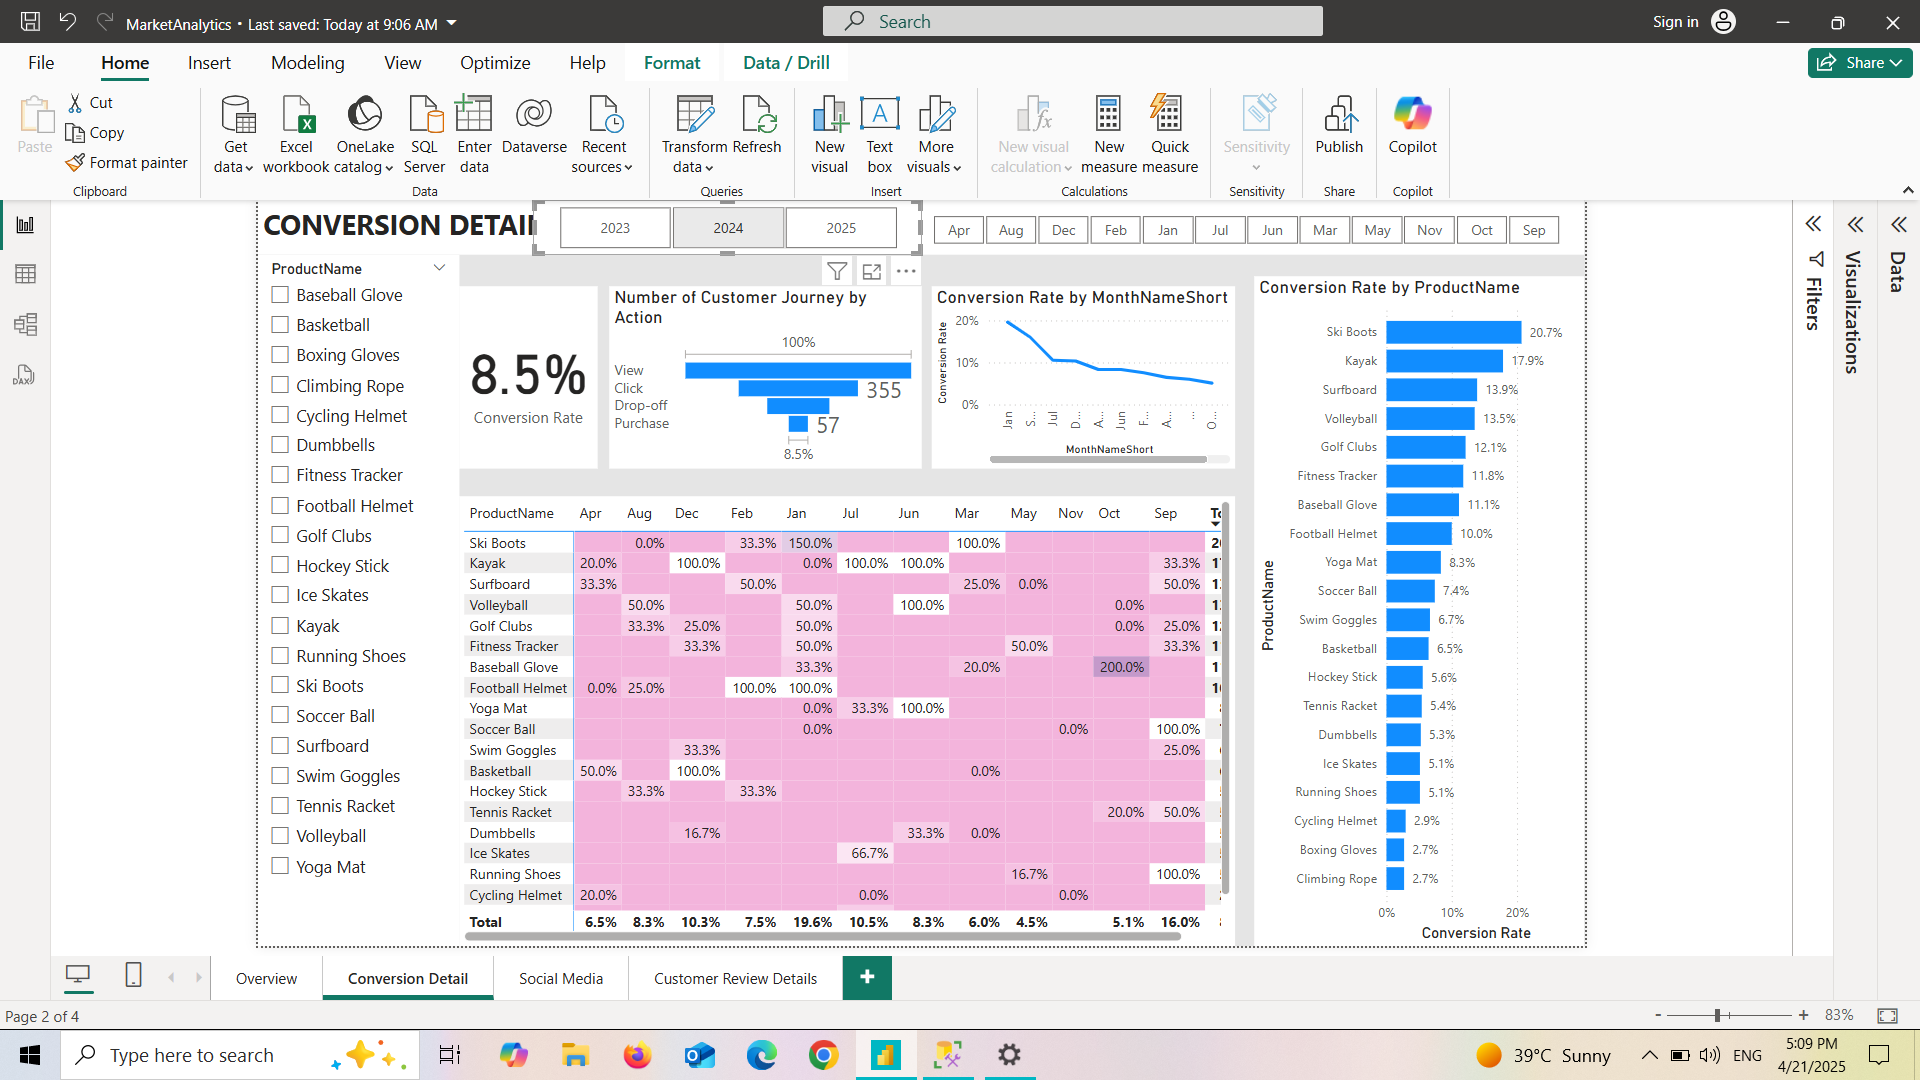

This screenshot's page, from the dashboard's own definition file:
{"tool":"powerbi","page":{"name":"Conversion Detail","canvas":[1280,720],"ordinal":1},"visuals":[{"type":"textbox","box":[0,0,1280,53.1],"z":0},{"type":"slicer","fields":{"Values":["dm_products.ProductName"]},"box":[0,53.1,194.2,667.2],"z":1000},{"type":"card","fields":{"Values":["_Calculations.Conversion Rate"]},"box":[194.2,83.2,133.9,176.1],"z":2000},{"type":"slicer","fields":{"Values":["Calendar.Year"]},"box":[265.4,0,375.2,53.1],"z":3000},{"type":"slicer","fields":{"Values":["Calendar.MonthNameShort"]},"box":[626.1,8.4,653.9,36.2],"z":4000},{"type":"clusteredBarChart","fields":{"Category":["dm_products.ProductName"],"Y":["_Calculations.Conversion Rate"]},"box":[961.5,73.6,318.5,646.7],"z":5000},{"type":"lineChart","fields":{"Y":["_Calculations.Conversion Rate"],"Category":["Calendar.MonthNameShort"]},"box":[650.3,83.2,293.2,176.1],"z":6000},{"type":"pivotTable","fields":{"Values":["_Calculations.Conversion Rate"],"Rows":["dm_products.ProductName"],"Columns":["Calendar.MonthNameShort"]},"box":[194.2,285.9,749.2,434.3],"z":7000},{"type":"funnel","fields":{"Y":["_Calculations.Number of Customer Journey"],"Category":["fact_customer_journey.Action"]},"box":[339,83.2,301.6,176.1],"z":8000}]}

Visuals, with their boxes on the page's 1280x720 design canvas (x1, y1, x2, y2). These are canvas units, not pixel positions in the 1920x1080 screenshot, which may show the page scaled, cropped or inside an application window:
textbox: [left=0, top=0, right=1280, bottom=53]
slicer - dm_products.ProductName: [left=0, top=53, right=194, bottom=720]
card - _Calculations.Conversion Rate: [left=194, top=83, right=328, bottom=259]
slicer - Calendar.Year: [left=265, top=0, right=641, bottom=53]
slicer - Calendar.MonthNameShort: [left=626, top=8, right=1280, bottom=45]
clusteredBarChart - dm_products.ProductName x _Calculations.Conversion Rate: [left=962, top=74, right=1280, bottom=720]
lineChart - _Calculations.Conversion Rate x Calendar.MonthNameShort: [left=650, top=83, right=944, bottom=259]
pivotTable - _Calculations.Conversion Rate x dm_products.ProductName: [left=194, top=286, right=943, bottom=720]
funnel - _Calculations.Number of Customer Journey x fact_customer_journey.Action: [left=339, top=83, right=641, bottom=259]
